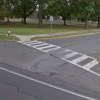crosswalk: (16, 40, 100, 76)
